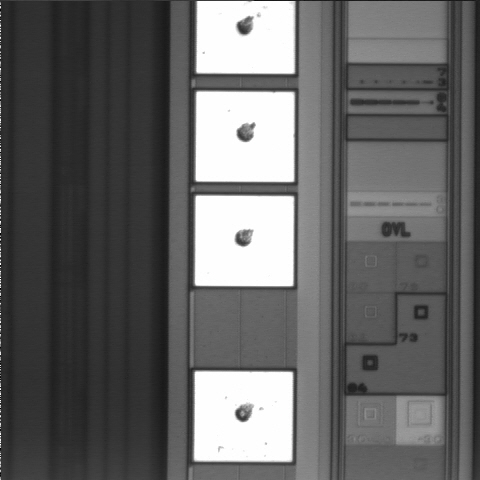pad: (194, 371, 293, 462), (195, 196, 294, 286), (196, 92, 294, 182)
